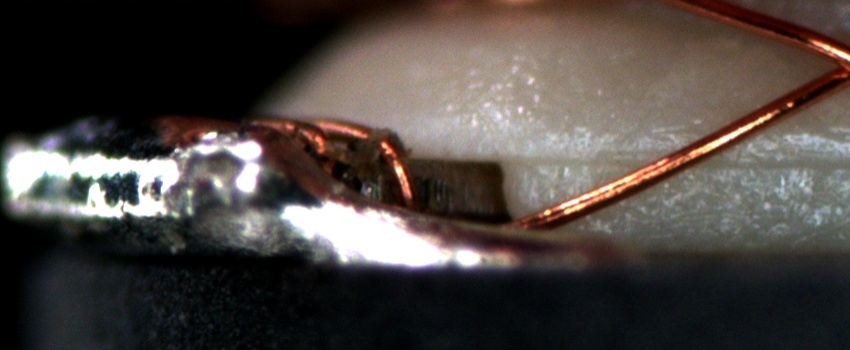CL: (804, 32, 849, 95)
DL: (528, 128, 850, 194)
TE: (208, 108, 424, 214)
